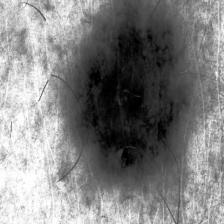Benign Marking or Mole: (74, 5, 186, 173)
